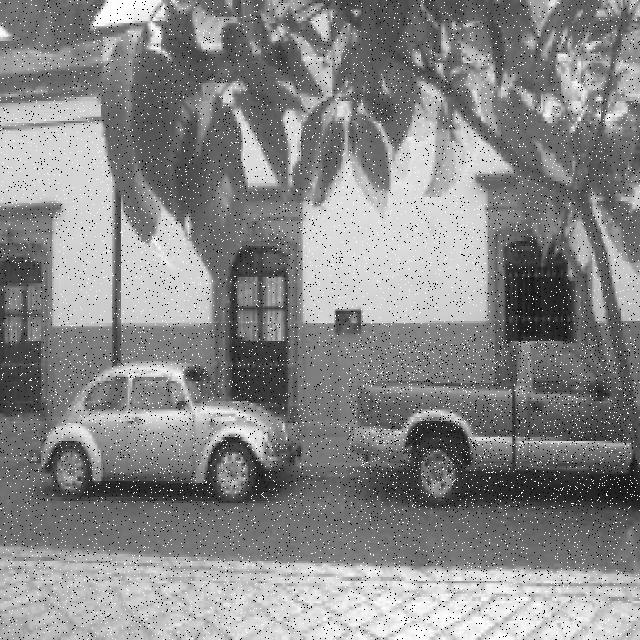Hatchback: (30, 362, 302, 503)
Pickup: (349, 340, 636, 508)
